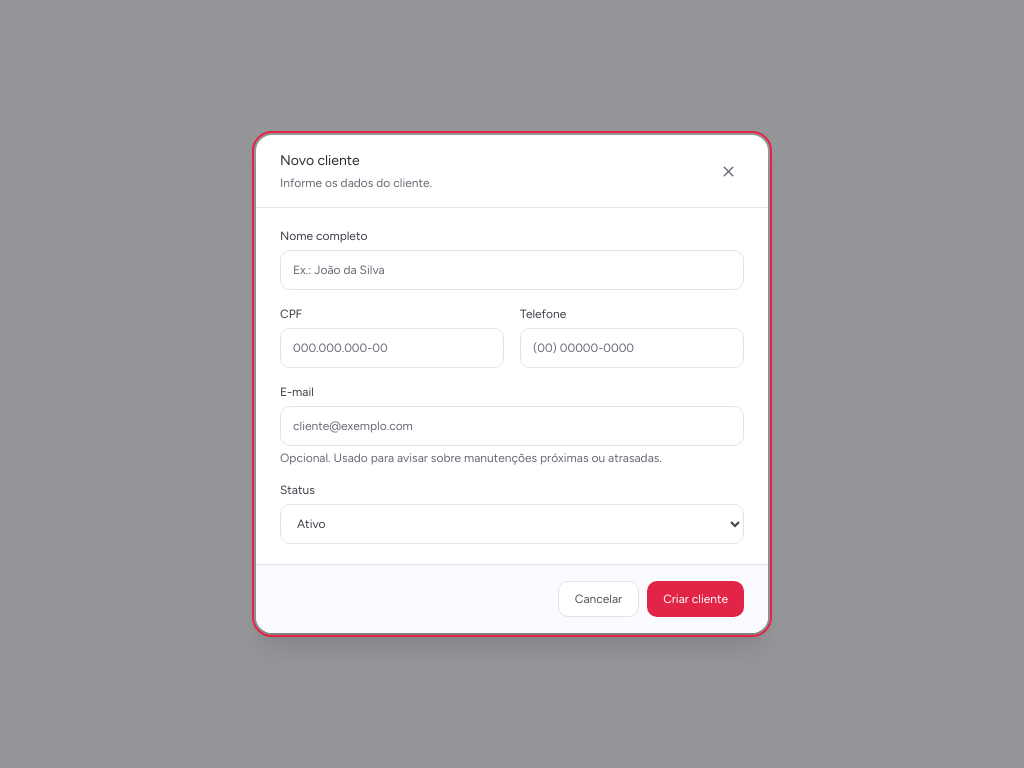
Test: campos vazios mostram a mensagem do app, não a do navegador › cliente: formulário vazio aponta nome, CPF e telefone e foca o primeiro
Click the button "Criar cliente" at (696, 599), box [647,581,744,617]
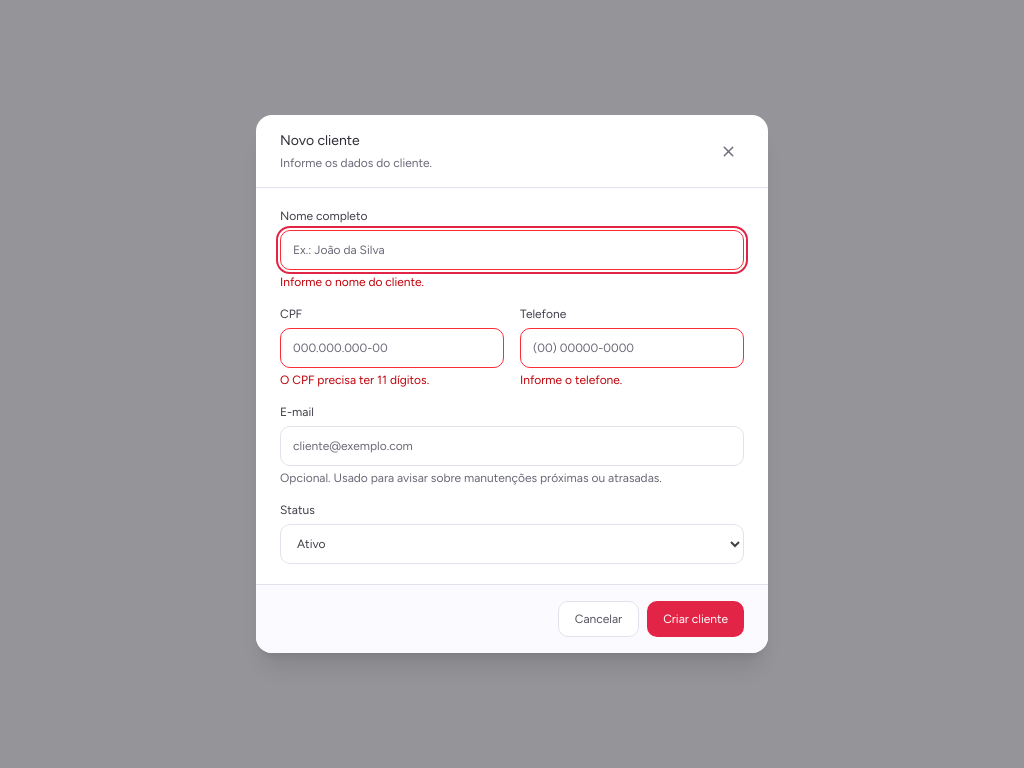
Expected: the text "Informe o nome do cliente." is shown, [280,275,424,289]
Expected: the text "O CPF precisa ter 11 dígitos." is shown, [280,373,429,387]
Expected: the text "Informe o telefone." is shown, [520,373,622,387]
